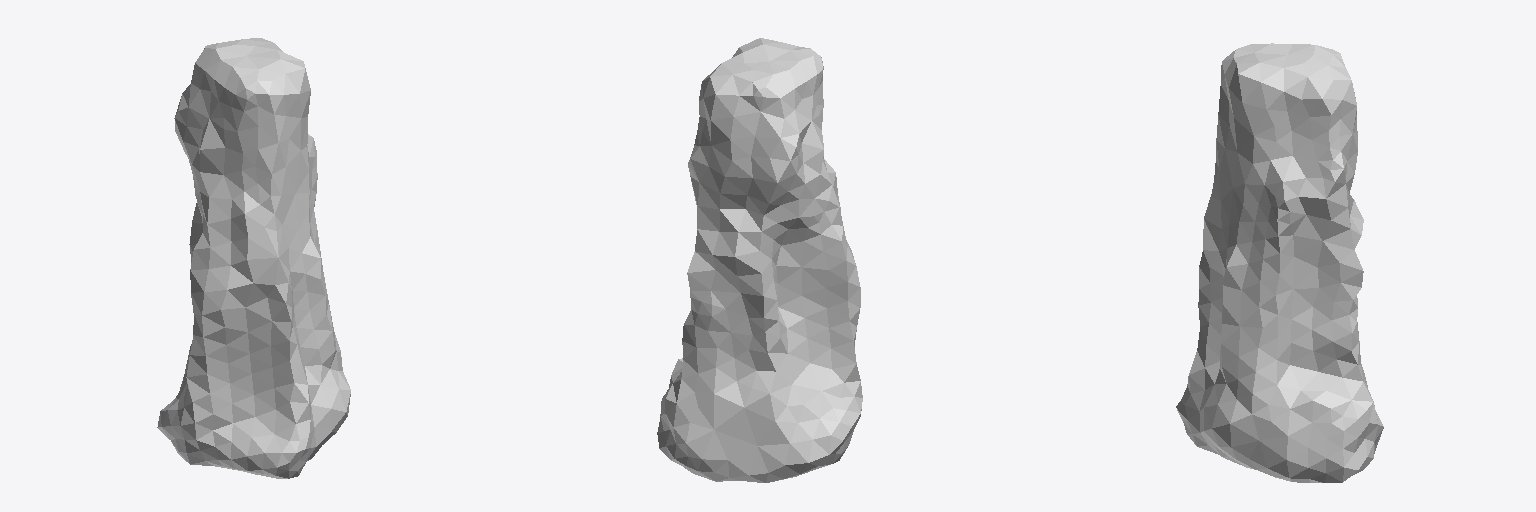
The model's file is RockSet05E.obj.
3 views of the same model, side by side, from view 1: azimuth 30°, elevation 25°; view 2: azimuth 150°, elevation 25°; view 3: azimuth 270°, elevation 25° (orthographic).
Visible parts, largest first — view 1: RockSet05E; view 2: RockSet05E; view 3: RockSet05E.
Part boxes in pixels (x1,y1,x2,y2): RockSet05E: (157,38,350,478); RockSet05E: (657,38,862,482); RockSet05E: (1176,43,1383,482).
Size of the model in its own units: 11.44 by 25.9 by 12.18.